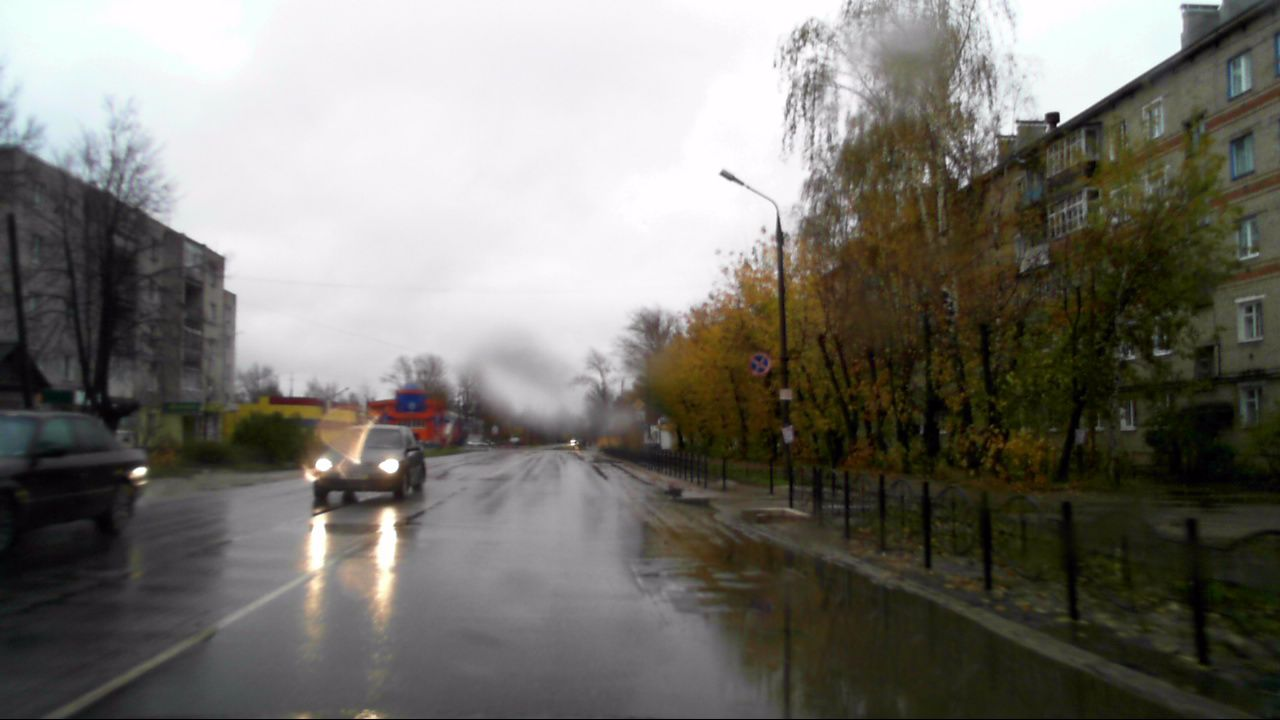No Parking: (745, 351, 773, 377)
